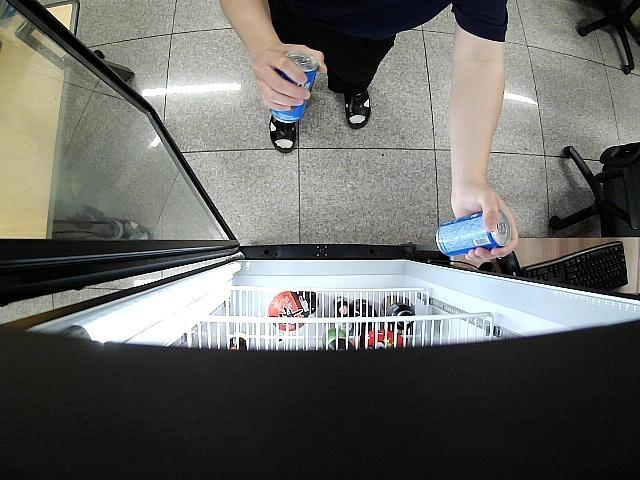15_letsbe: (436, 209, 512, 256), (271, 52, 318, 122)
